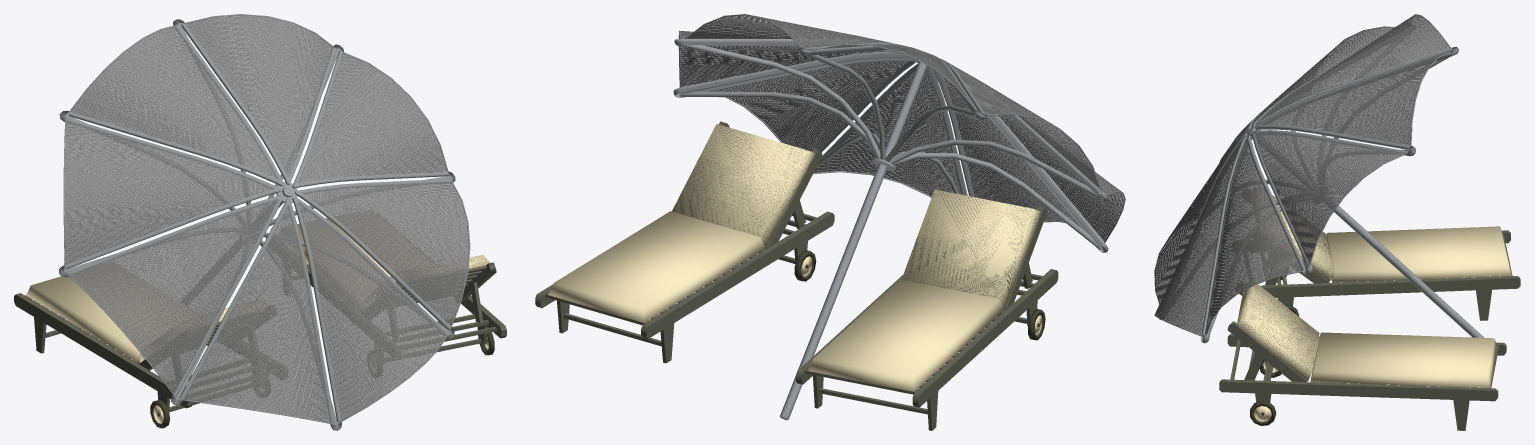
3 renders of one model, left to right at view 1: azimuth 30°, elevation 25°; view 2: azimuth 150°, elevation 25°; view 3: azimuth 270°, elevation 25°, orthographic. The views are drawn at different scales.
Parts seen in each view (by area): view 1: Group1, Group2, Group8, Group3, Group7, Group4, Group6, Group5, cushion_leg2, chair_side4, Component_55_5, Component_55_6 (+9 smaller); view 2: cushion_leg1, cushion_leg2, cushion_top2, cushion_top1, Group4, Group3, Group2, chair_side2, Group5, Cygnus_92__Dia__Umbrella1, Group1, chair_side4 (+23 smaller); view 3: cushion_leg1, cushion_leg2, Group5, Group4, Group6, Group3, Group7, chair_side1, cushion_top1, chair_side3, Group2, Cygnus_92__Dia__Umbrella1 (+10 smaller).
Boxes of the visible parts, x1,y1,x2,y2 form: Group1: (69, 199, 278, 393); Group2: (183, 205, 331, 423); Group8: (64, 120, 273, 264); Group3: (299, 203, 446, 420); Group7: (70, 26, 278, 179); Group4: (303, 181, 469, 326); Group6: (185, 14, 333, 176); Group5: (298, 52, 447, 182); cushion_leg2: (26, 262, 197, 362); chair_side4: (14, 293, 192, 410); Component_55_5: (59, 189, 277, 277); Component_55_6: (171, 199, 288, 405); cushion_leg1: (548, 211, 765, 322); cushion_leg2: (808, 279, 1004, 391); cushion_top2: (901, 189, 1040, 308); cushion_top1: (672, 124, 814, 246); Group4: (714, 61, 907, 151); Group3: (814, 70, 961, 196); Group2: (943, 77, 1076, 223); chair_side2: (641, 211, 834, 363); Group5: (680, 31, 885, 87); Cygnus_92__Dia__Umbrella1: (779, 61, 927, 420); Group1: (969, 85, 1123, 241); chair_side4: (912, 269, 1058, 430); cushion_leg1: (1310, 332, 1497, 387); cushion_leg2: (1326, 226, 1511, 282); Group5: (1254, 132, 1404, 263); Group4: (1206, 140, 1301, 332); Group6: (1260, 53, 1446, 145); Group3: (1154, 142, 1240, 335); Group7: (1260, 14, 1449, 119); chair_side1: (1219, 379, 1498, 430); cushion_top1: (1237, 281, 1319, 381); chair_side3: (1260, 276, 1520, 320); Group2: (1154, 137, 1240, 304); Cygnus_92__Dia__Umbrella1: (1246, 126, 1484, 337).
Bounding box in the file's own units: 5.14 × 3.87 × 4.2.
